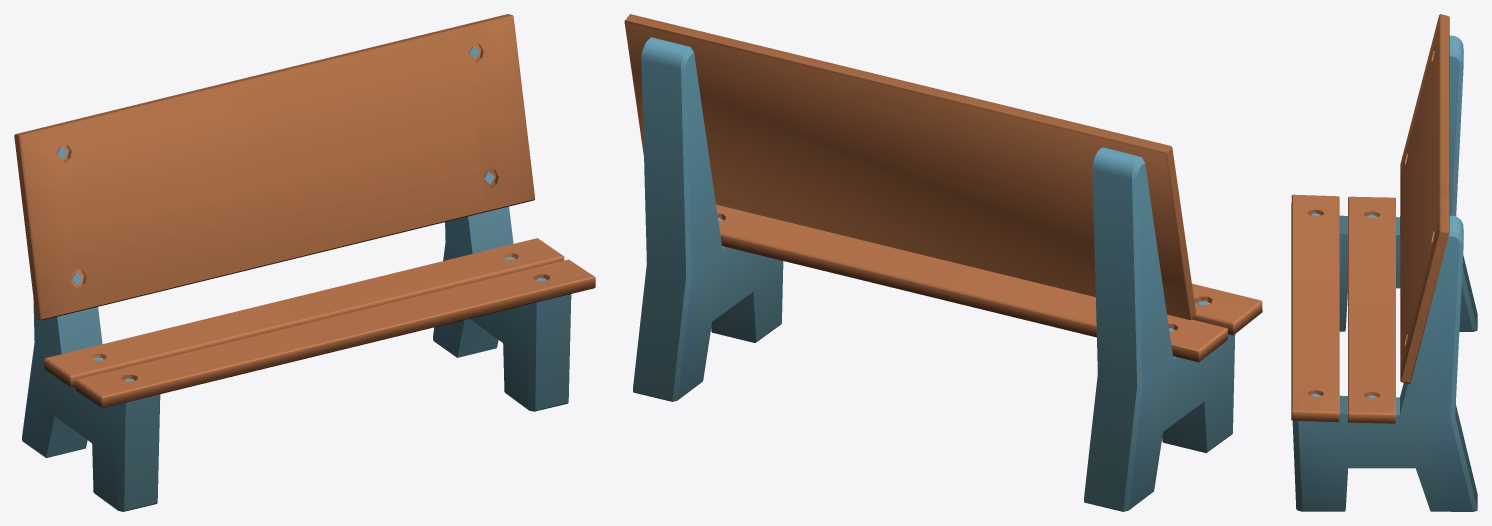
Rendered from a38d196f-c397-4253-b9c9-99aed067237d.glb.
3 renders of one model, left to right at view 1: azimuth 30°, elevation 25°; view 2: azimuth 150°, elevation 25°; view 3: azimuth 270°, elevation 25°, orthographic. The views are drawn at different scales.
Parts seen in each view (by area): view 1: BenchWoodConcrete; view 2: BenchWoodConcrete; view 3: BenchWoodConcrete.
Boxes of the visible parts, x1,y1,x2,y2 form: BenchWoodConcrete: (14,14,595,511); BenchWoodConcrete: (624,14,1262,511); BenchWoodConcrete: (1291,14,1477,511).
Size of what is drawn, in the model's own units: 1.83 by 1.15 by 0.6638.
Materials: 1 (1 with a texture image).
